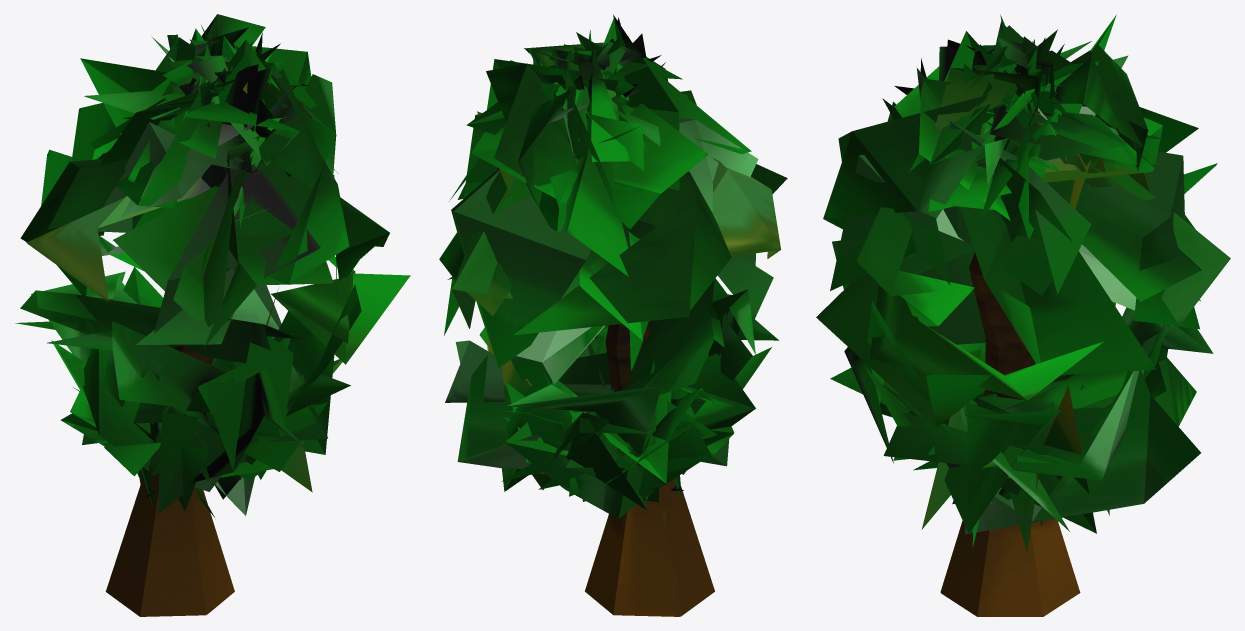
File: Shrubbery.fbx
The picture shows the model from 3 angles, left to right: view 1: azimuth 30°, elevation 25°; view 2: azimuth 150°, elevation 25°; view 3: azimuth 270°, elevation 25°; orthographic projection. The views are drawn at different scales.
Visible parts, largest first — view 1: Shrubbery; view 2: Shrubbery; view 3: Shrubbery.
Boxes of the visible parts, x1,y1,x2,y2 form: Shrubbery: (15, 14, 410, 616); Shrubbery: (439, 14, 787, 616); Shrubbery: (816, 14, 1230, 616).
Bounding box in the file's own units: 0.8183 × 1.26 × 0.7965.
